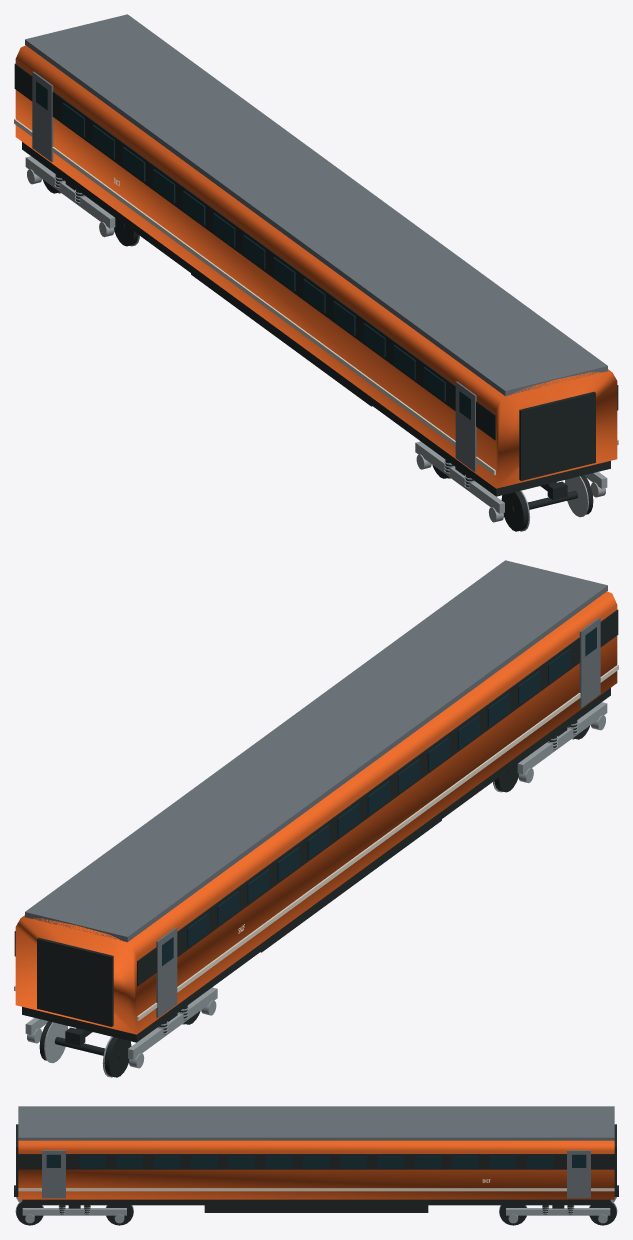
Rendered from tgv-sud-est-coach-1435.glb.
3 renders of one model, top to bottom at view 1: azimuth 30°, elevation 25°; view 2: azimuth 150°, elevation 25°; view 3: azimuth 270°, elevation 25°, orthographic. The views are drawn at different scales.
Parts seen in each view (by area): view 1: body, gangway, bogie_0, bogie_1, wheel; view 2: body, gangway, bogie_1, bogie_0, wheel; view 3: body, wheel (×4), bogie_0, bogie_1, gangway (×2).
Part boxes in pixels (box(x1,y1,x2,y2)): body: box(14, 14, 618, 499); gangway: box(519, 391, 595, 480); bogie_0: box(415, 441, 607, 531); bogie_1: box(25, 156, 139, 246); wheel: box(501, 491, 528, 531); body: box(14, 560, 618, 1045); gangway: box(37, 937, 113, 1026); bogie_1: box(25, 987, 217, 1077); bogie_0: box(493, 702, 607, 792); wheel: box(104, 1037, 131, 1077); body: box(14, 1106, 618, 1212); wheel (×4): box(16, 1201, 616, 1225); bogie_0: box(15, 1197, 133, 1223); bogie_1: box(499, 1197, 617, 1223); gangway (×2): box(16, 1124, 616, 1190).
Size of the model in its own units: 3.03 by 3.47 by 20.27.
8 materials, 2 textured.
